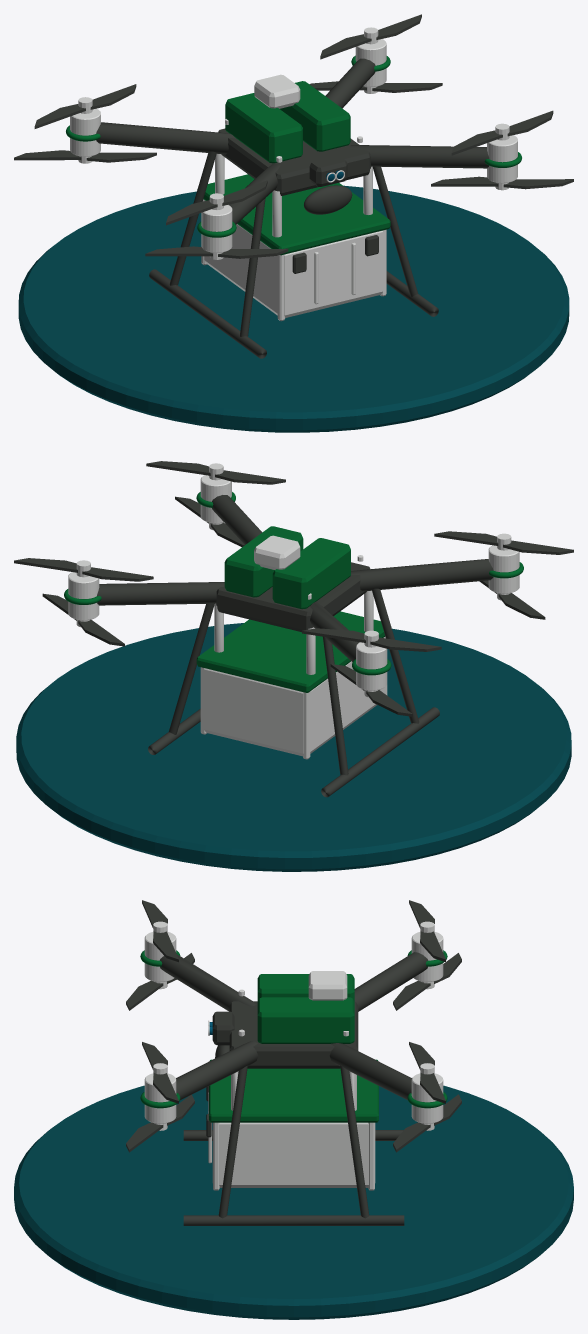
Rendered from dji-flycart-30.glb.
The picture shows the model from 3 angles, top to bottom: view 1: azimuth 30°, elevation 25°; view 2: azimuth 150°, elevation 25°; view 3: azimuth 270°, elevation 25°; orthographic projection.
Parts seen in each view (by area): view 1: pedestal, body; view 2: pedestal, body; view 3: pedestal, body.
Part boxes in pixels (x1=…): pedestal: x1=18, y1=185, x2=569, y2=432; body: x1=14, y1=14, x2=573, y2=358; pedestal: x1=16, y1=623, x2=571, y2=871; body: x1=14, y1=461, x2=573, y2=797; pedestal: x1=14, y1=1085, x2=573, y2=1319; body: x1=126, y1=900, x2=461, y2=1225.
Bounding box in the file's own units: 4.4 × 1.96 × 4.4.
